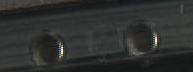holes: (123, 17, 159, 56)
joints: (28, 25, 66, 67), (123, 17, 159, 56)
